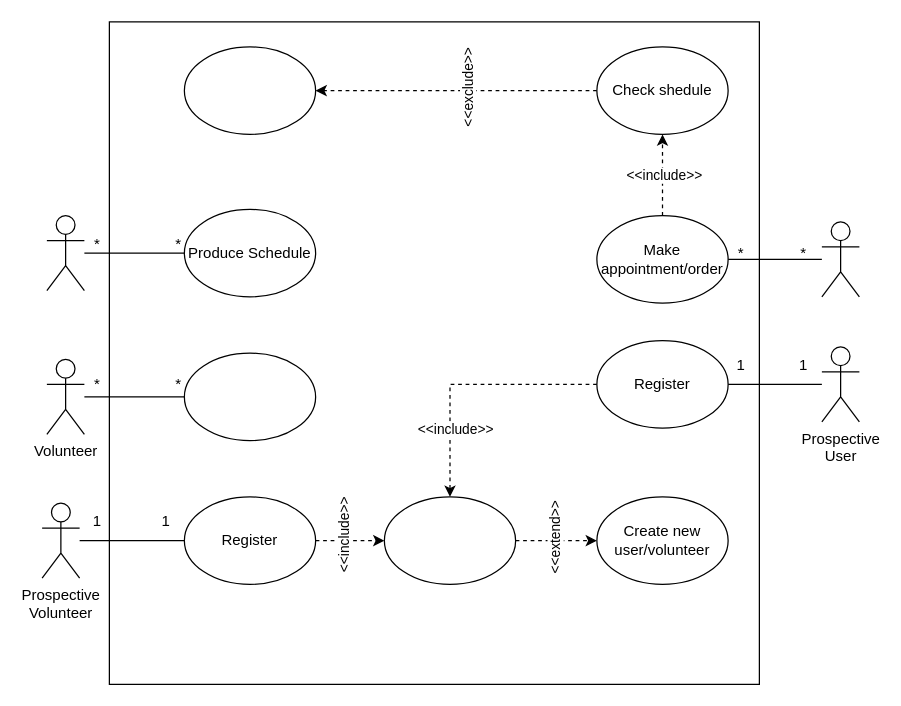
Image size: 901x706. Some labels were removed from this diagram. The shapes that lost their labels are listed below. From the top down, each one's centre as x and y in pixels, then its label:
the point at 249,90: Notify Volunteer
the point at 65,252: Management
the point at 840,259: User
the point at 249,396: Record Availability
the point at 449,540: Screening
